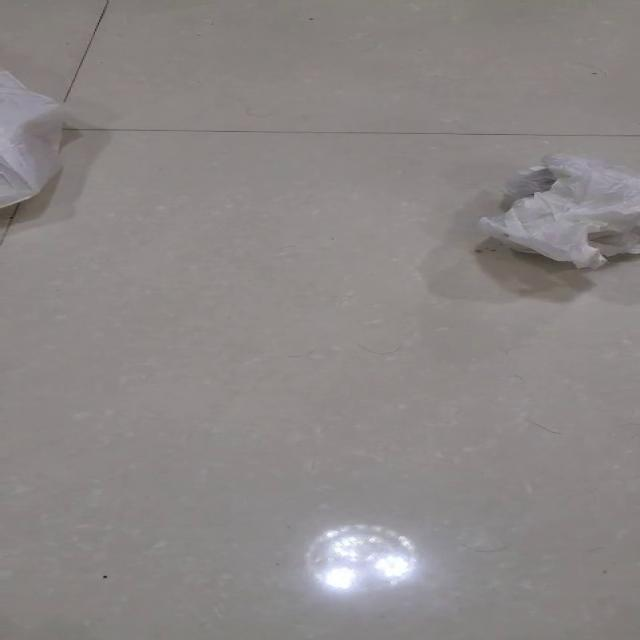plastic: (476, 152, 638, 270), (0, 67, 64, 208)
